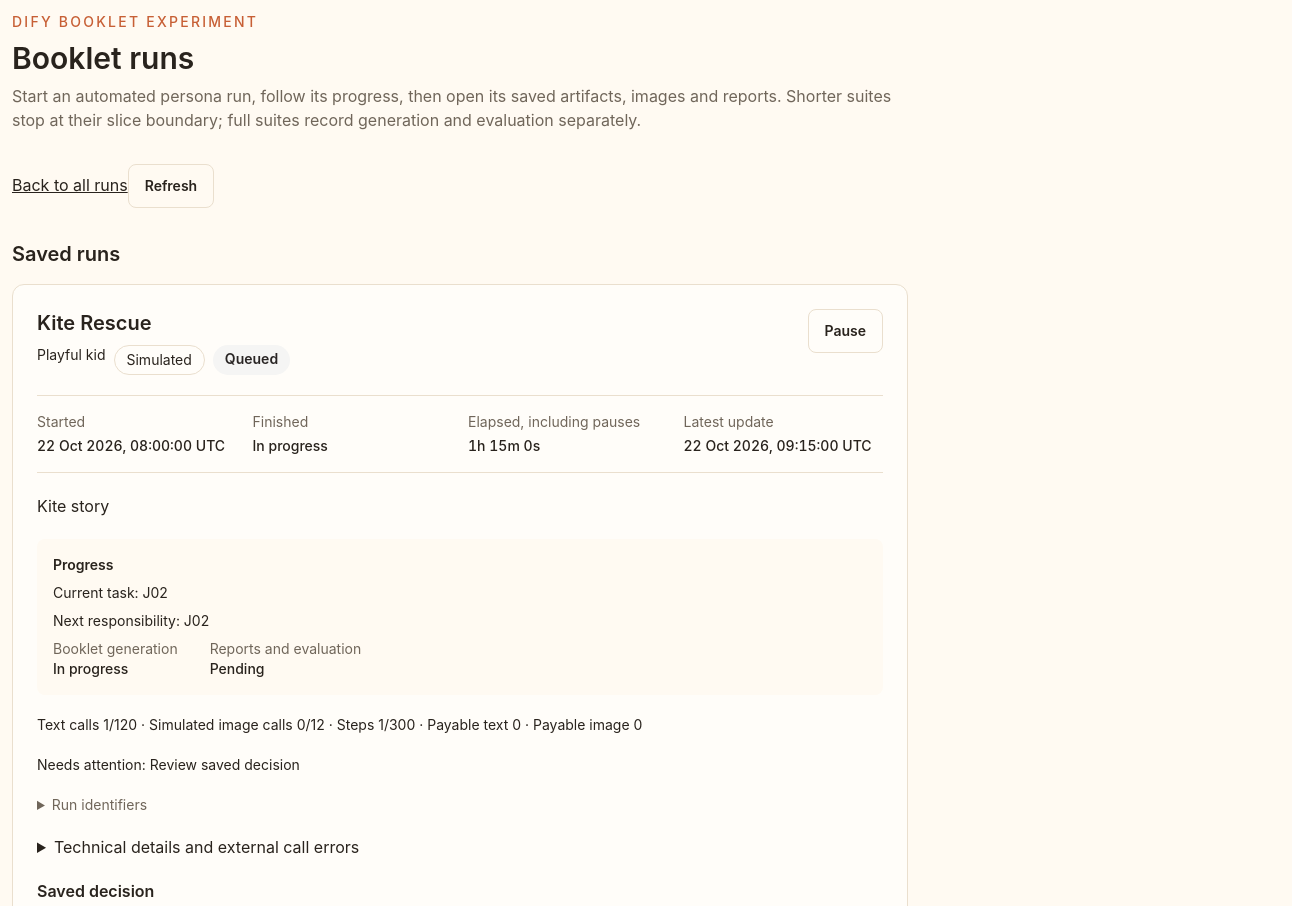
Scenario: booklet runner inspector › never retries a generic state rejection as a revision conflict
The image size is (1292, 906).
Click the button "Pause": (845, 331) [808, 309, 883, 353]
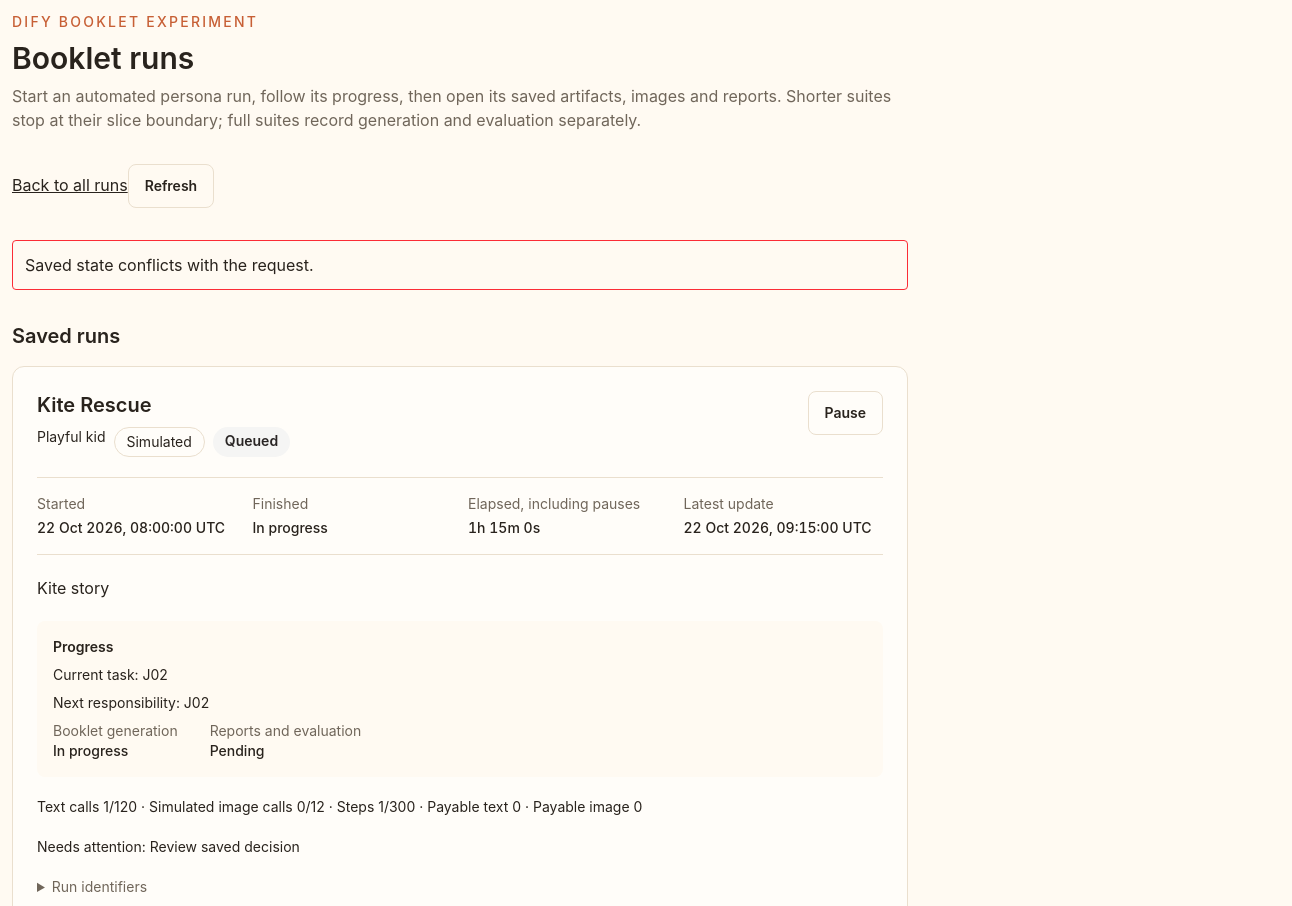
Now the message "Saved state conflicts with the request." is shown, box [12, 240, 908, 290]
